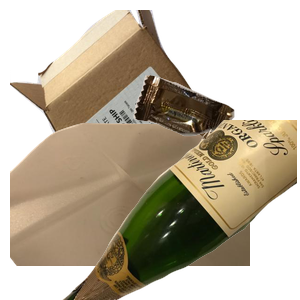cardboard: (10, 10, 227, 190)
glass: (60, 120, 300, 300)
plastic: (10, 120, 250, 300)
trash: (131, 73, 300, 202)
